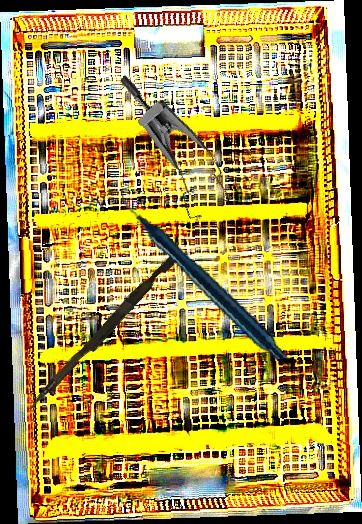Handpiece: (120, 168, 288, 380)
Pusher: (26, 246, 183, 417)
Speculum: (78, 73, 255, 232)
